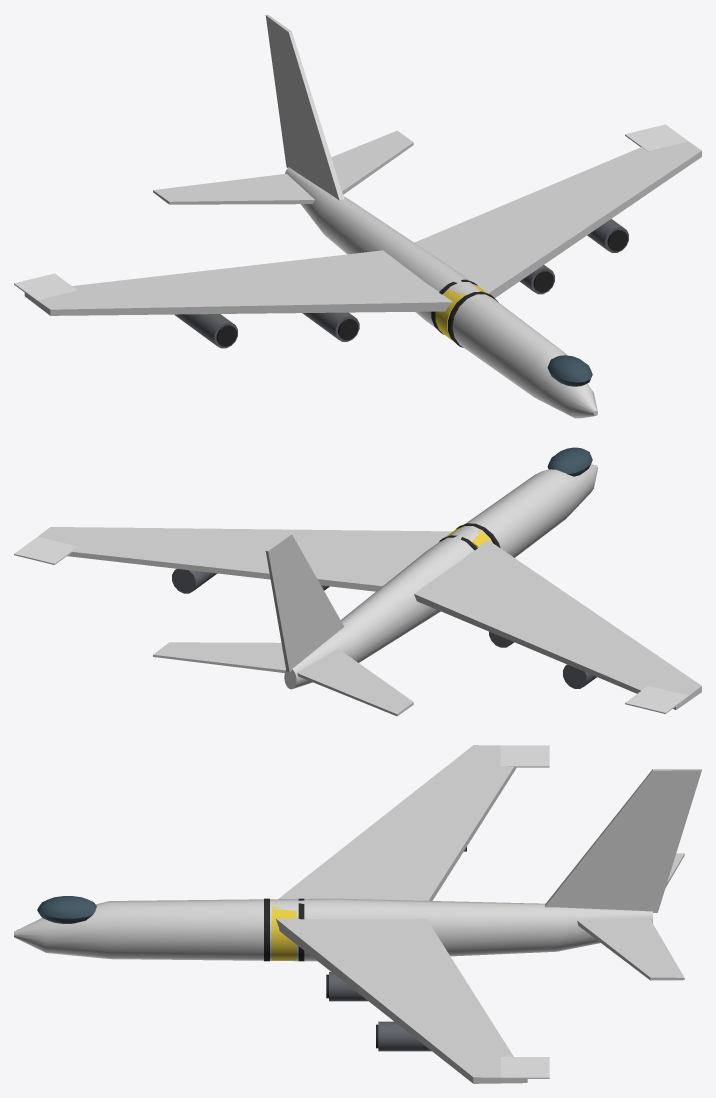
Rendered from nuke_bomber.glb.
3 views of the same model, one above another, from view 1: azimuth 30°, elevation 25°; view 2: azimuth 150°, elevation 25°; view 3: azimuth 270°, elevation 25° (orthographic). The views are drawn at different scales.
Parts seen in each view (by area): view 1: body; view 2: body; view 3: body.
Boxes of the visible parts, x1=… form: body: x1=14, y1=14, x2=701, y2=418; body: x1=14, y1=447, x2=701, y2=716; body: x1=14, y1=745, x2=701, y2=1083.
Bounding box in the file's own units: 16 × 4.25 × 14.
